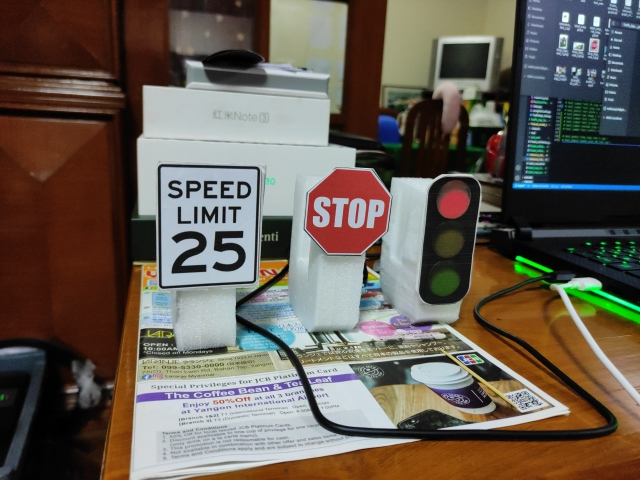Red Traffic Light: (417, 172, 482, 305)
Speed Limit 25: (155, 160, 264, 291)
Stop Sign: (304, 166, 394, 257)
